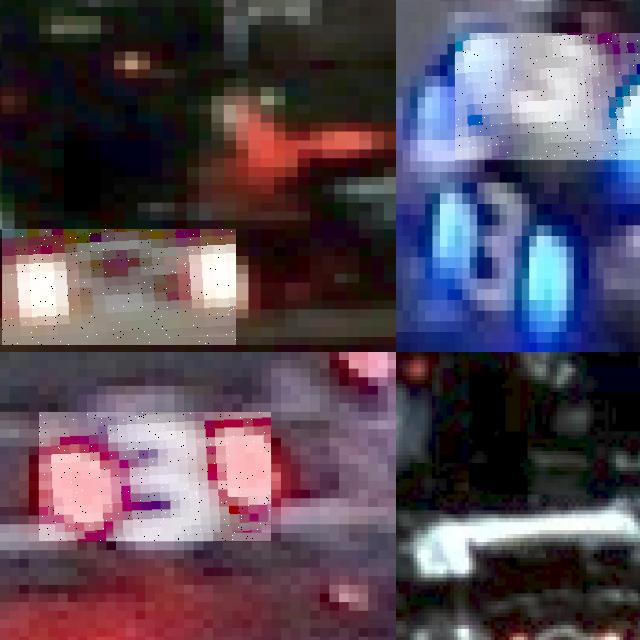B3: (402, 161, 596, 352), (454, 33, 640, 161)
R3: (39, 412, 271, 541)
Rs: (2, 229, 236, 345), (509, 621, 623, 640)
